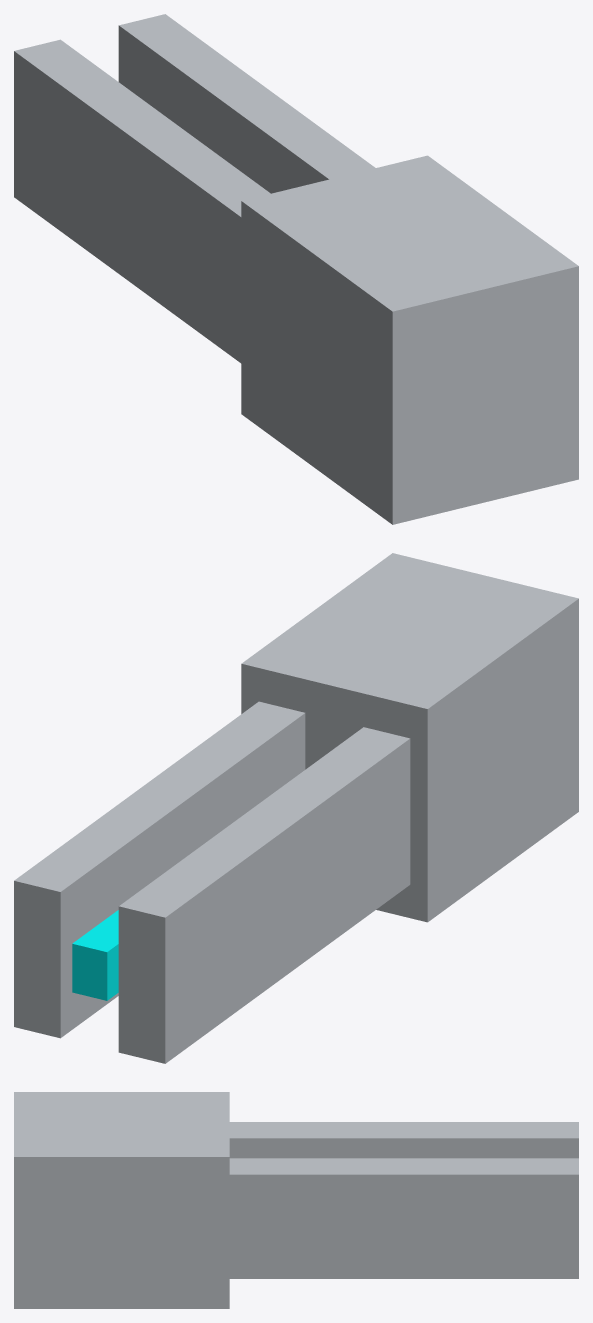
Rendered from Weapons_Railgun_01.glb.
3 renders of one model, top to bottom at view 1: azimuth 30°, elevation 25°; view 2: azimuth 150°, elevation 25°; view 3: azimuth 270°, elevation 25°, orthographic. The views are drawn at different scales.
Parts seen in each view (by area): view 1: Weapons_Railgun_01_gltf_export_temp; view 2: Weapons_Railgun_01_gltf_export_temp; view 3: Weapons_Railgun_01_gltf_export_temp.
Boxes of the visible parts, x1,y1,x2,y2 form: Weapons_Railgun_01_gltf_export_temp: [14, 14, 578, 524]; Weapons_Railgun_01_gltf_export_temp: [14, 553, 578, 1063]; Weapons_Railgun_01_gltf_export_temp: [14, 1092, 578, 1308].
Bounding box in the file's own units: 0.3345 × 0.3659 × 1.23.
